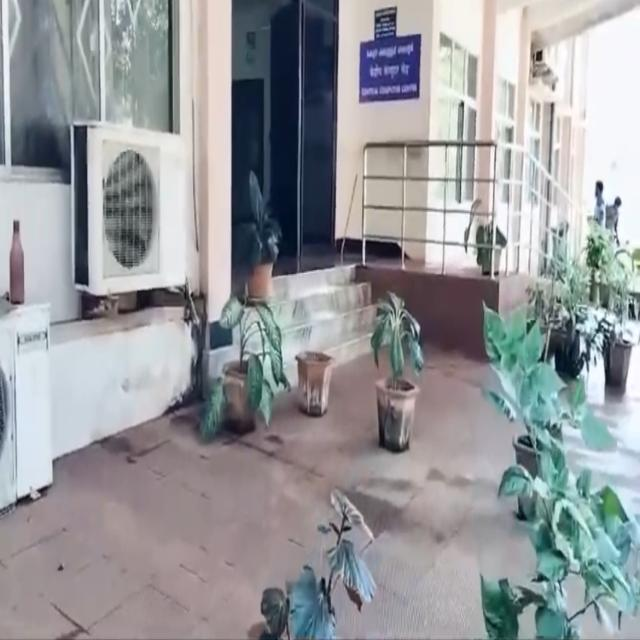plant ahead at: (205, 282, 289, 447), (366, 282, 419, 456), (238, 172, 283, 299)
